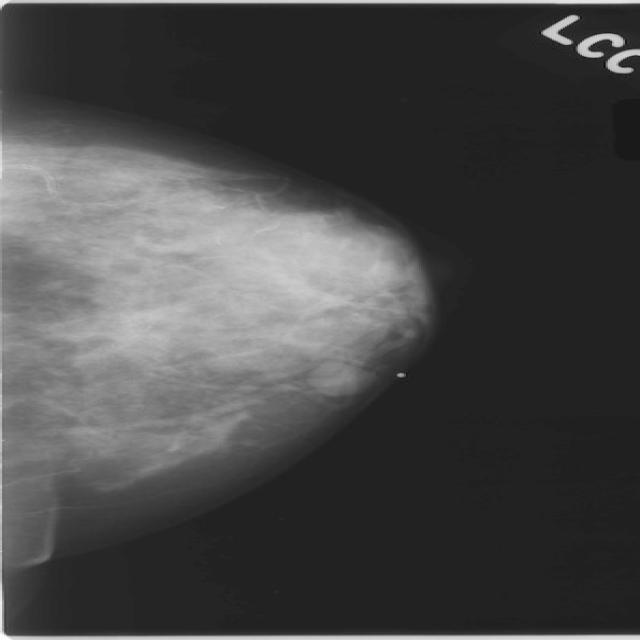tumour: (305, 361, 372, 396)
